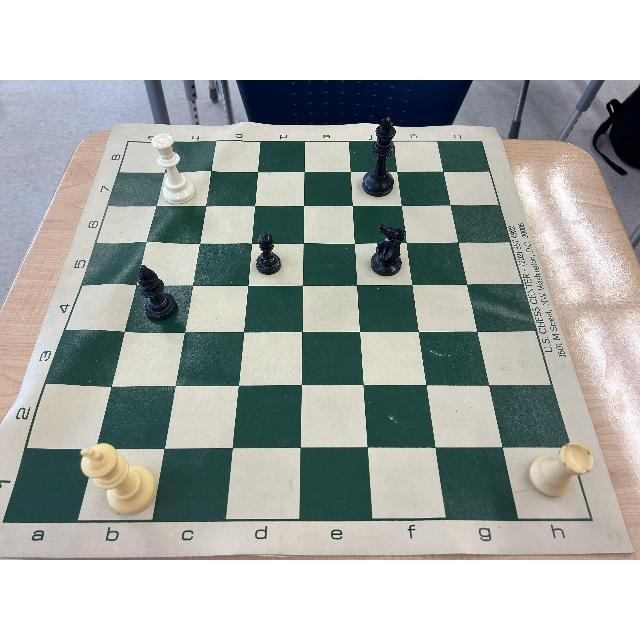black-bishop: (137, 262, 179, 322)
black-king: (362, 117, 395, 197)
black-knight: (370, 224, 406, 276)
black-pawn: (256, 232, 282, 276)
white-king: (78, 444, 157, 516)
white-queen: (151, 132, 197, 204)
white-rook: (528, 442, 596, 497)
